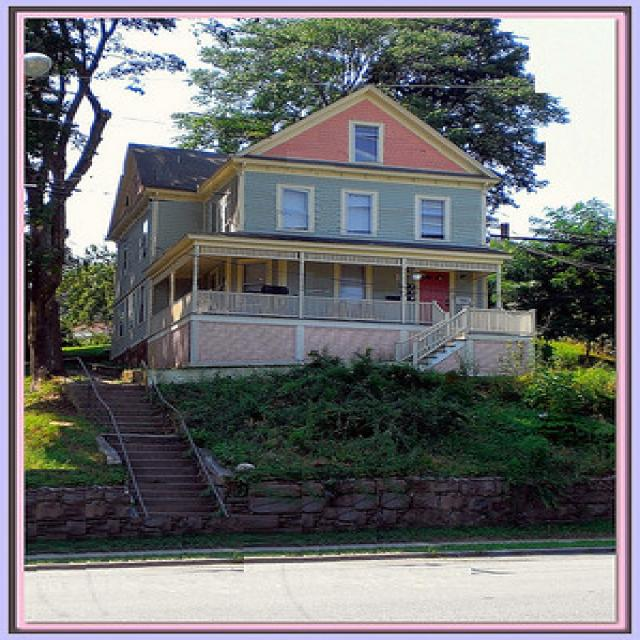Normal_building: (104, 82, 538, 393)
